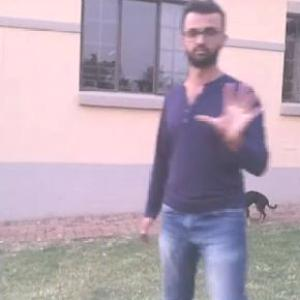follow_hand: (192, 77, 268, 146)
